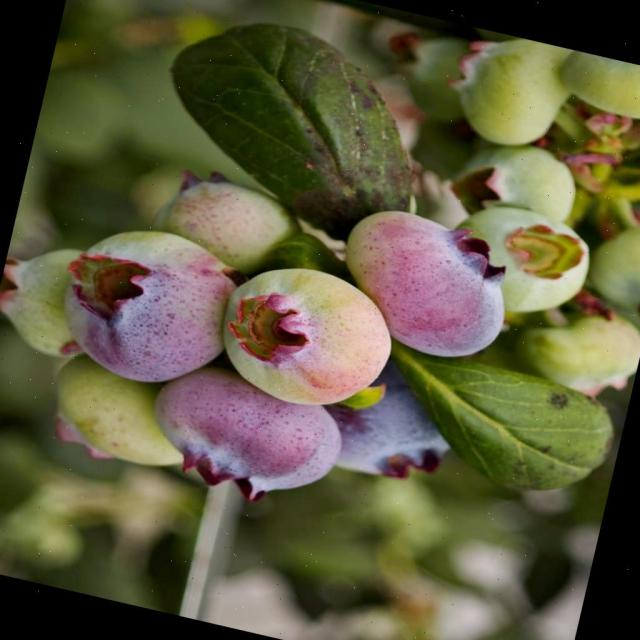Semi-RipeBlueBerry: (204, 251, 408, 424), (330, 197, 528, 367), (61, 224, 238, 399), (142, 365, 352, 509)
